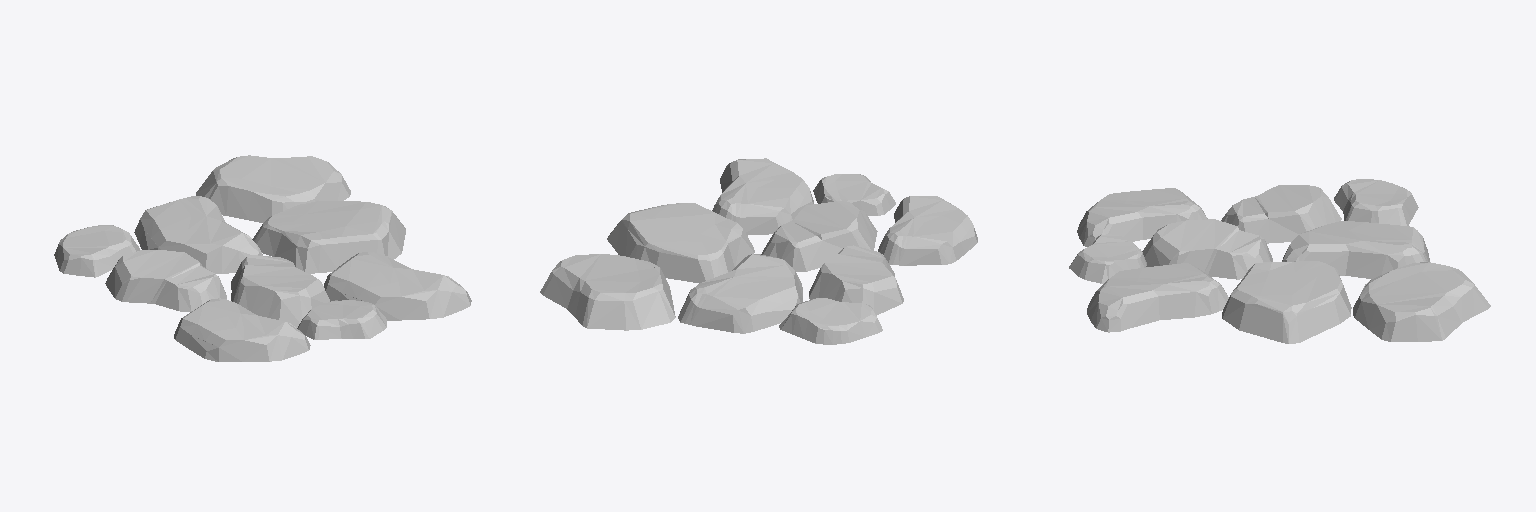
The model's file is RockPath_Round_Small_2.obj.
The picture shows the model from 3 angles: view 1: azimuth 30°, elevation 25°; view 2: azimuth 150°, elevation 25°; view 3: azimuth 270°, elevation 25°; orthographic projection.
Visible parts, largest first — view 1: RockPath_Round_Small_2; view 2: RockPath_Round_Small_2; view 3: RockPath_Round_Small_2.
Part boxes in pixels (bbox=[...]): RockPath_Round_Small_2: bbox=[54, 155, 471, 361]; RockPath_Round_Small_2: bbox=[540, 158, 977, 344]; RockPath_Round_Small_2: bbox=[1069, 179, 1490, 343].
Bounding box in the file's own units: 1.14 × 0.1047 × 1.35.